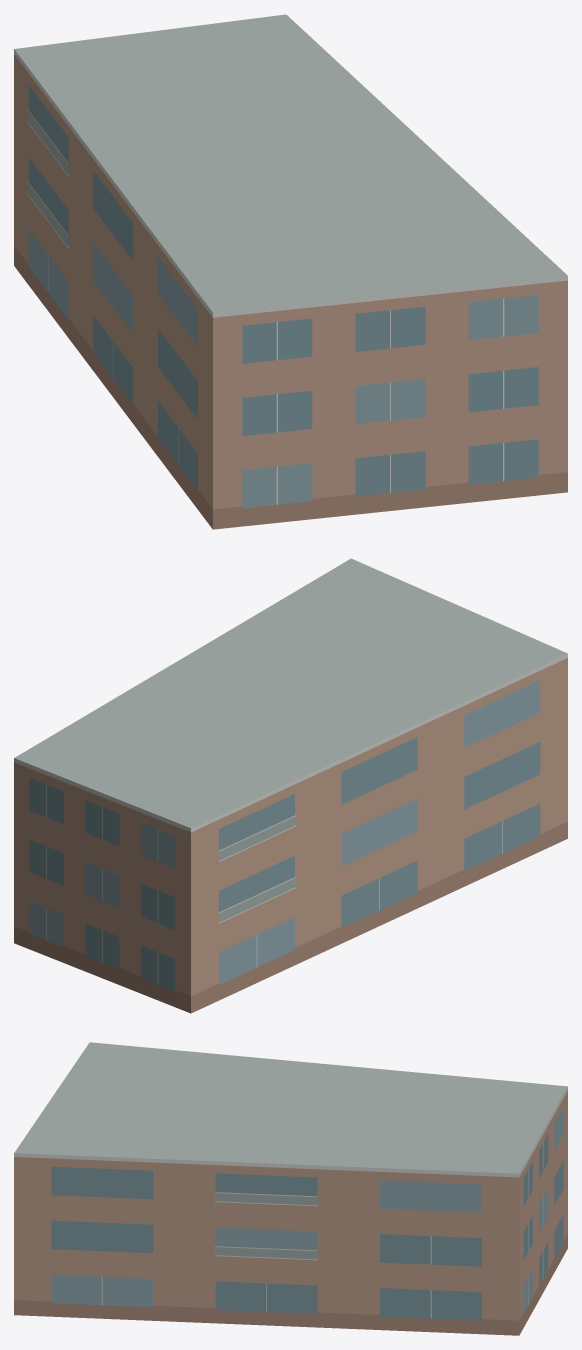
Rendered from survey-upis-32492533.glb.
3 renders of one model, top to bottom at view 1: azimuth 30°, elevation 25°; view 2: azimuth 150°, elevation 25°; view 3: azimuth 270°, elevation 25°, orthographic. The views are drawn at different scales.
Parts seen in each view (by area): view 1: survey-upis-32492533.tmp; view 2: survey-upis-32492533.tmp; view 3: survey-upis-32492533.tmp.
Part boxes in pixels (x1=…): survey-upis-32492533.tmp: x1=14, y1=14, x2=567, y2=529; survey-upis-32492533.tmp: x1=14, y1=558, x2=567, y2=1013; survey-upis-32492533.tmp: x1=14, y1=1042, x2=567, y2=1335.
Bounding box in the file's own units: 18.48 × 10.6 × 32.86.
